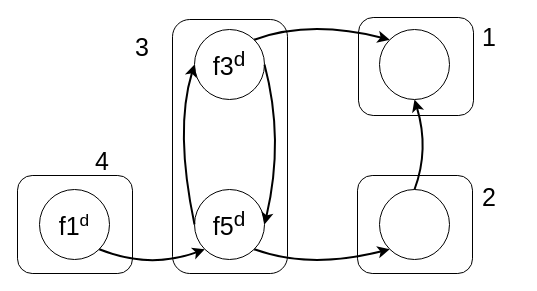
The diagram is 537 pixels wide and 291 high, and some of its shapes have lost their labels. Here are the shapes that lost their labels. From the top down, the box of each, then its label:
(378, 28, 450, 100): f2 d
(378, 188, 450, 260): f4 d
